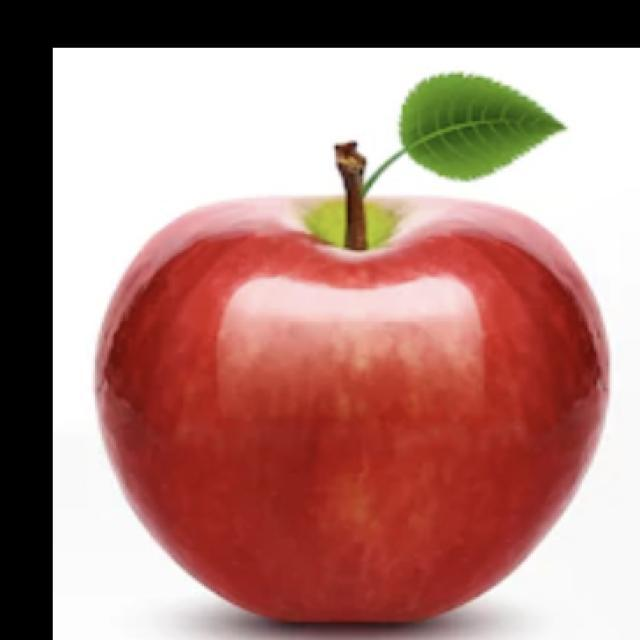Fresh Apple: (113, 170, 580, 640)
